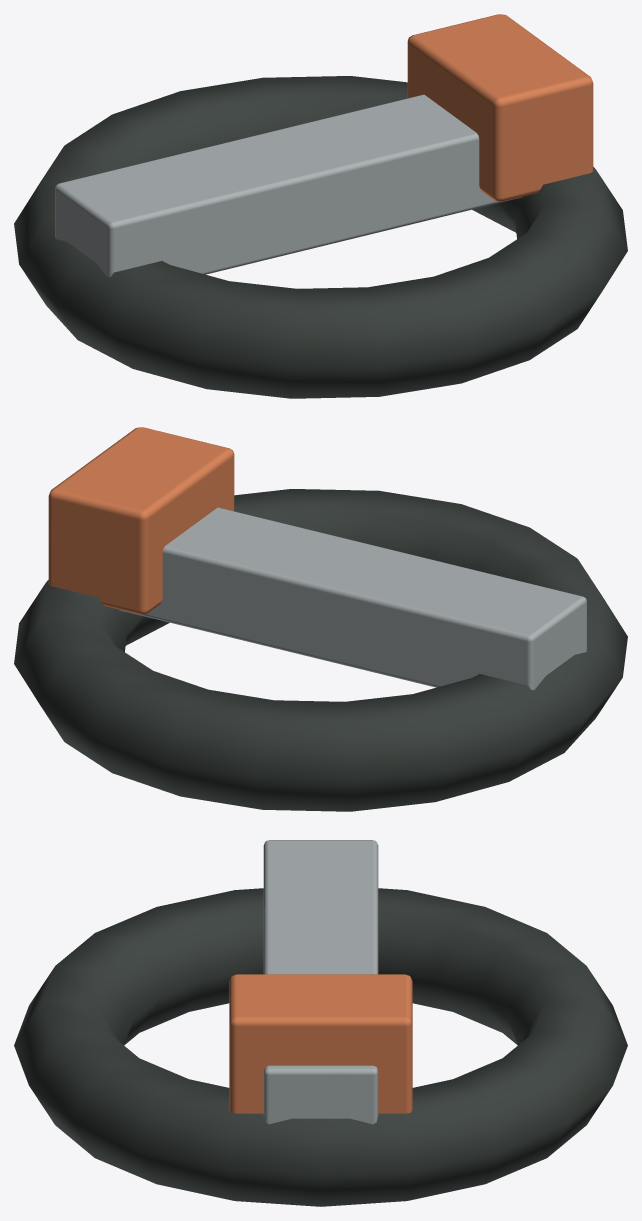
File: field-medicine-and-recovery-tourniquet-e52e2ef7__3041.glb
3 views of the same model, one above another, from view 1: azimuth 30°, elevation 25°; view 2: azimuth 150°, elevation 25°; view 3: azimuth 270°, elevation 25° (orthographic).
Visible parts, largest first — view 1: tourniquet, windlass/metal; view 2: tourniquet, windlass/metal; view 3: tourniquet, windlass/metal.
Boxes of the visible parts, left/top/right/bottom form: tourniquet: left=14, top=14, right=627, bottom=398; windlass/metal: left=55, top=94, right=522, bottom=276; tourniquet: left=14, top=427, right=627, bottom=811; windlass/metal: left=119, top=507, right=586, bottom=689; tourniquet: left=14, top=888, right=627, bottom=1206; windlass/metal: left=263, top=840, right=378, bottom=1124.
Bounding box in the file's own units: 0.134 × 0.0434 × 0.134.
